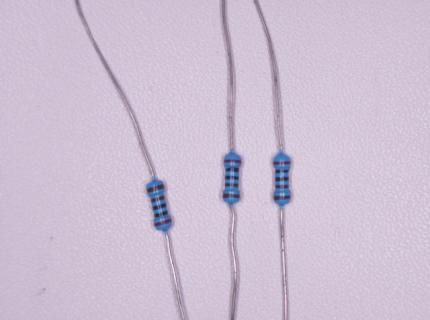Black band: (152, 203, 167, 211), (154, 211, 169, 218), (225, 175, 239, 180), (225, 167, 239, 172), (275, 177, 289, 181), (275, 169, 289, 173)
Brown band: (146, 184, 165, 193), (151, 195, 165, 203), (223, 194, 240, 199), (274, 195, 291, 200), (225, 183, 239, 188), (275, 184, 289, 189)
Red band: (153, 218, 172, 228), (224, 159, 242, 164), (273, 161, 291, 165)
